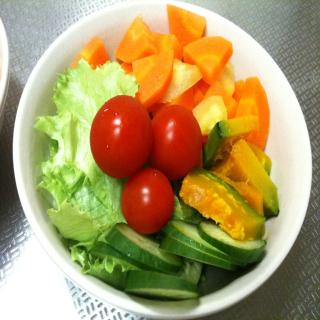tomato: (86, 91, 156, 179), (150, 105, 202, 178), (120, 169, 172, 231)
